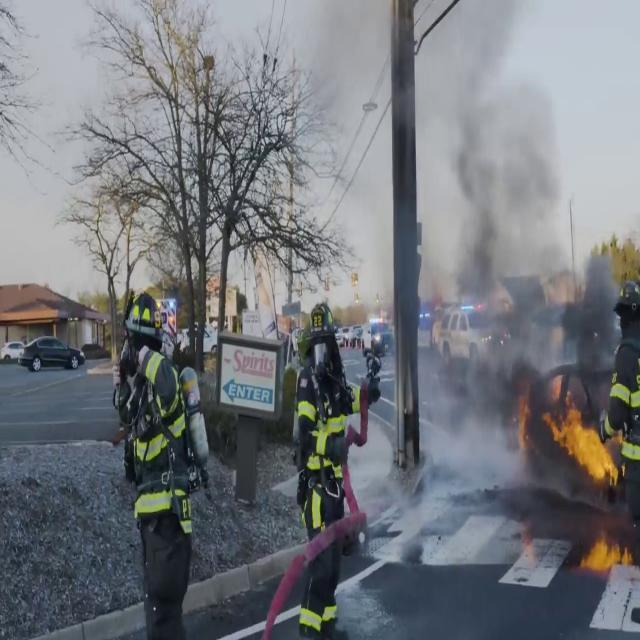Fire: (542, 386, 632, 492), (580, 528, 634, 574)
Smoke: (384, 0, 640, 370)
